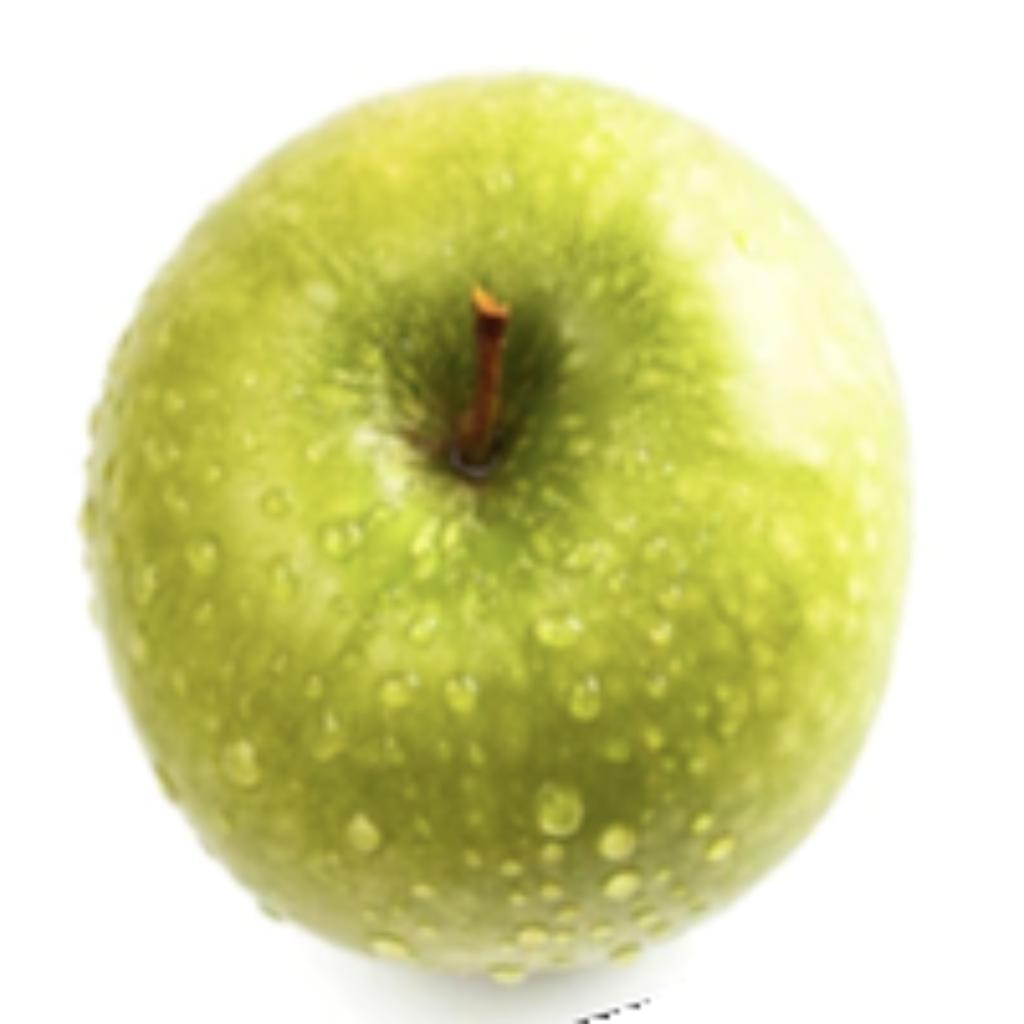apple: (67, 61, 916, 1019)
